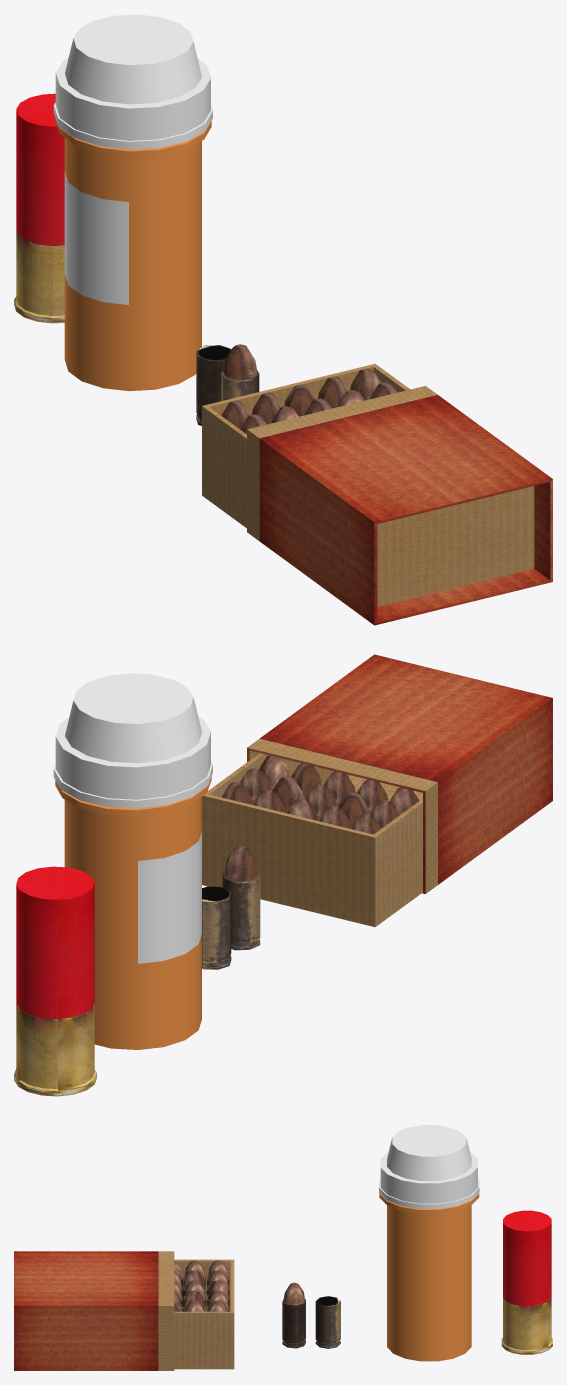
The model's file is ammoAndmeds.fbx.
The picture shows the model from 3 angles, top to bottom: view 1: azimuth 30°, elevation 25°; view 2: azimuth 150°, elevation 25°; view 3: azimuth 270°, elevation 25°; orthographic projection. The views are drawn at different scales.
Visible parts, largest first — view 1: Cube, Cylinder, Cylinder.001, Cube.001, Cube.000; view 2: Cube, Cylinder, Cylinder.001, Cube.000, Cube.001; view 3: Cube, Cylinder, Cylinder.001, Cube.000, Cube.001.
Boxes of the visible parts, <box> form: Cube: <box>202,363,552,625</box>; Cylinder: <box>53,14,212,391</box>; Cylinder.001: <box>14,93,64,323</box>; Cube.001: <box>196,345,231,425</box>; Cube.000: <box>221,344,259,400</box>; Cube: <box>202,654,552,927</box>; Cylinder: <box>53,673,212,1049</box>; Cylinder.001: <box>14,866,96,1096</box>; Cube.000: <box>222,846,260,950</box>; Cube.001: <box>202,886,231,969</box>; Cube: <box>14,1251,234,1370</box>; Cylinder: <box>379,1125,479,1361</box>; Cylinder.001: <box>501,1210,552,1354</box>; Cube.000: <box>282,1282,305,1348</box>; Cube.001: <box>315,1296,340,1348</box>.
Bounding box in the file's own units: 15.49 × 26.81 × 64.44.
